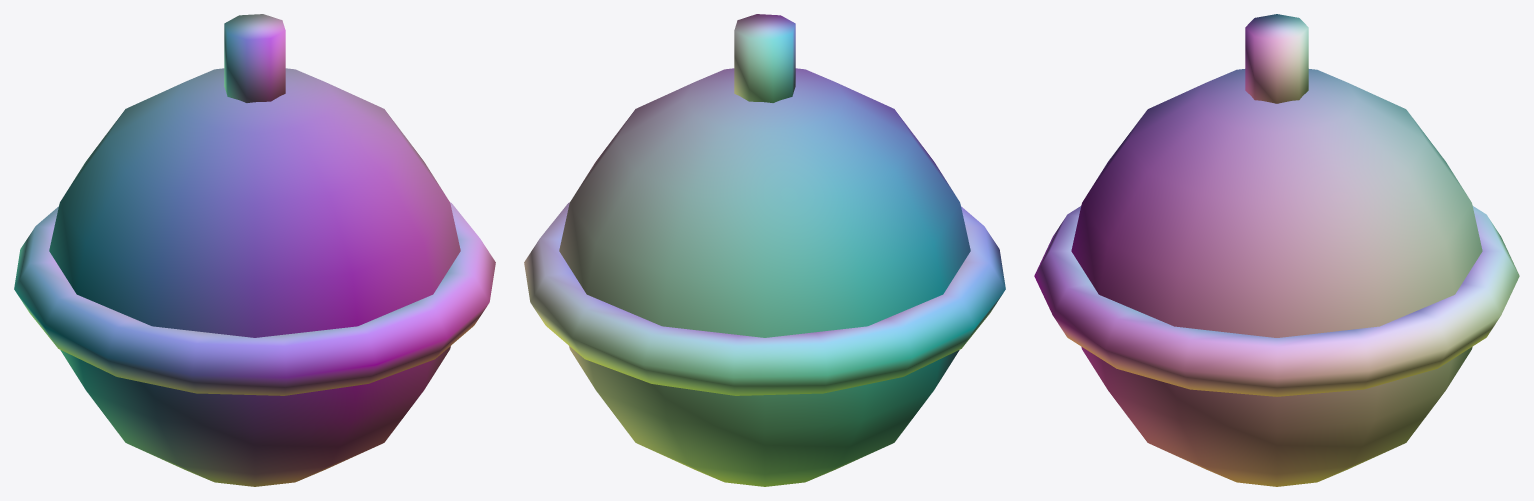
File: fx_bomb.glb
The picture shows the model from 3 angles, left to right: view 1: azimuth 30°, elevation 25°; view 2: azimuth 150°, elevation 25°; view 3: azimuth 270°, elevation 25°; orthographic projection.
Parts seen in each view (by area): view 1: bomb; view 2: bomb; view 3: bomb.
Part boxes in pixels (left/top/right/bottom): bomb: left=14, top=14, right=495, bottom=486; bomb: left=524, top=14, right=1005, bottom=486; bomb: left=1034, top=14, right=1519, bottom=486.
Bounding box in the file's own units: 0.046 × 0.046 × 0.046.
